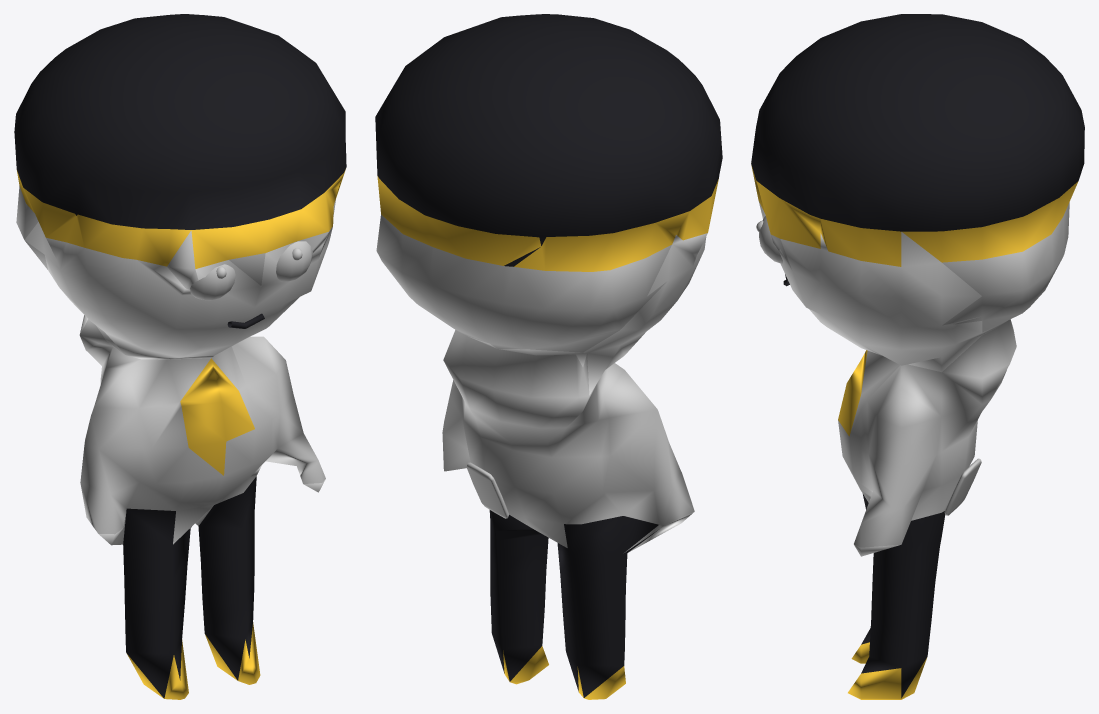
File: idol_boy_f_lod.fbx
The picture shows the model from 3 angles, left to right: view 1: azimuth 30°, elevation 25°; view 2: azimuth 150°, elevation 25°; view 3: azimuth 270°, elevation 25°; orthographic projection. The views are drawn at different scales.
Parts seen in each view (by area): view 1: idol_boy_f_lod; view 2: idol_boy_f_lod; view 3: idol_boy_f_lod.
Boxes of the visible parts, box(x1,y1,x2,y2) form: idol_boy_f_lod: box(14, 14, 346, 699); idol_boy_f_lod: box(375, 14, 722, 699); idol_boy_f_lod: box(751, 14, 1084, 699).
Size of the model in its own units: 0.5952 by 1.24 by 0.5824.
